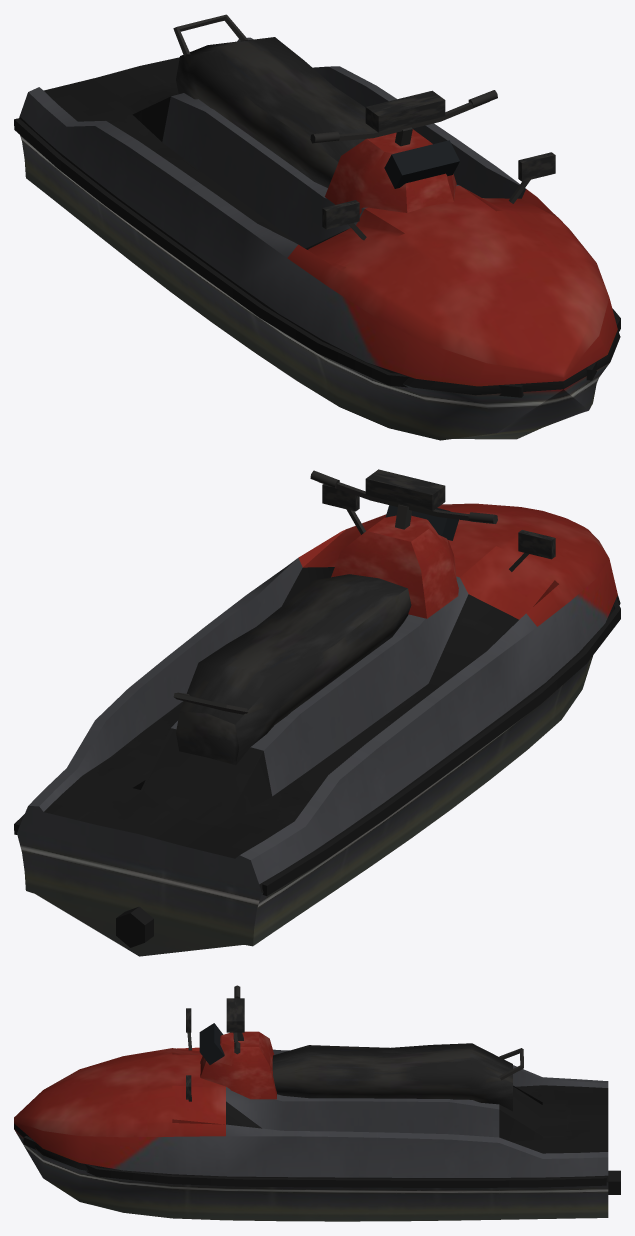
The model's file is jetSki-b-lod1.glb.
3 views of the same model, one above another, from view 1: azimuth 30°, elevation 25°; view 2: azimuth 150°, elevation 25°; view 3: azimuth 270°, elevation 25° (orthographic). The views are drawn at different scales.
Parts seen in each view (by area): view 1: Hull, Superstructure; view 2: Hull, Superstructure; view 3: Hull, Superstructure.
Boxes of the visible parts, left/top/right/bottom form: Hull: left=14, top=37, right=620, bottom=440; Superstructure: left=173, top=14, right=555, bottom=240; Hull: left=14, top=503, right=620, bottom=956; Superstructure: left=173, top=469, right=555, bottom=764; Hull: left=14, top=1047, right=620, bottom=1221; Superstructure: left=186, top=985, right=523, bottom=1111.
Bounding box in the file's own units: 1.26 × 1.2 × 3.37.
1 material, 1 textured.
